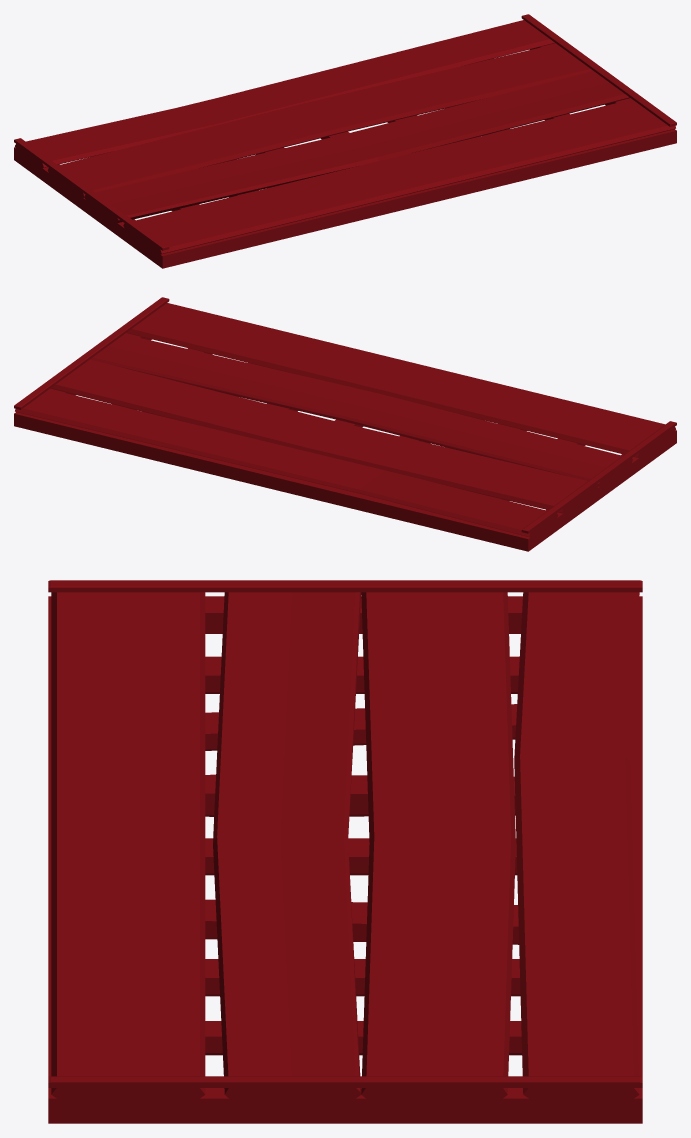
File: SM_MH_01_Wood_Floor_02_Half_01.fbx
The picture shows the model from 3 angles, top to bottom: view 1: azimuth 30°, elevation 25°; view 2: azimuth 150°, elevation 25°; view 3: azimuth 270°, elevation 25°; orthographic projection. The views are drawn at different scales.
Visible parts, largest first — view 1: SM_MH_01_Wood_Floor_02_Half_01_LOD0; view 2: SM_MH_01_Wood_Floor_02_Half_01_LOD0; view 3: SM_MH_01_Wood_Floor_02_Half_01_LOD0.
Boxes of the visible parts, <box> form: SM_MH_01_Wood_Floor_02_Half_01_LOD0: <box>14,14,676,268</box>; SM_MH_01_Wood_Floor_02_Half_01_LOD0: <box>14,297,676,551</box>; SM_MH_01_Wood_Floor_02_Half_01_LOD0: <box>48,580,642,1123</box>.
Size of what is drawn, in the model's own units: 300 by 11.8 by 150.
